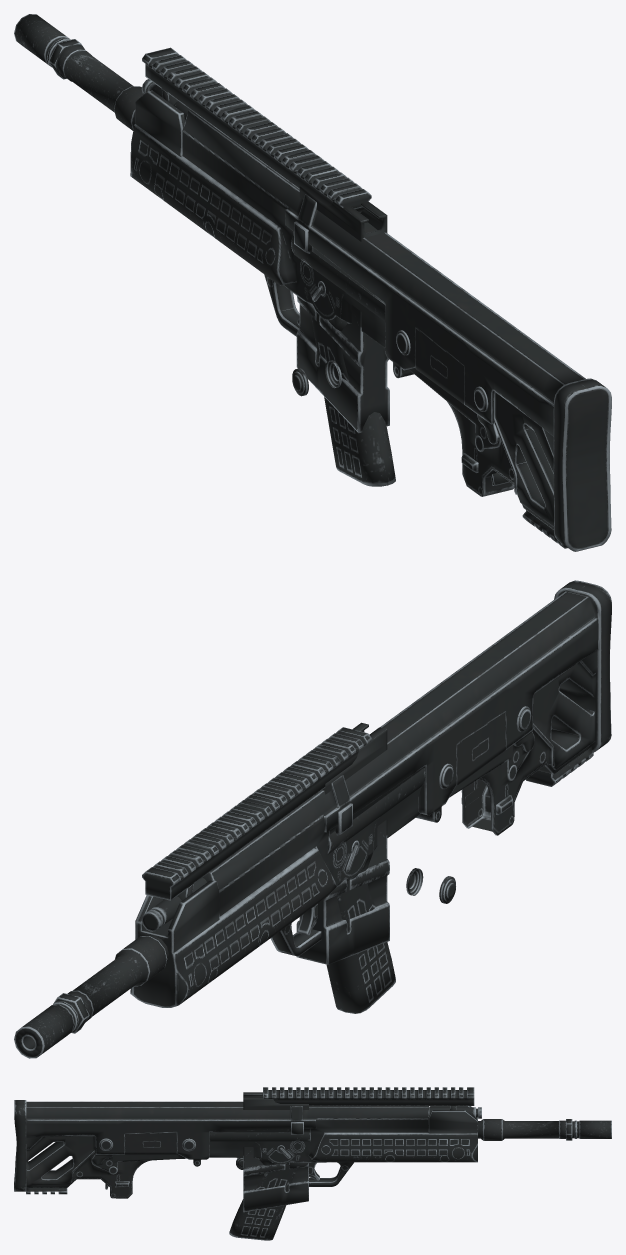
3 views of the same model, one above another, from view 1: azimuth 30°, elevation 25°; view 2: azimuth 150°, elevation 25°; view 3: azimuth 270°, elevation 25° (orthographic). The views are drawn at different scales.
Visible parts, largest first — view 1: Body, Magazine, Bolt; view 2: Body, Magazine, Bolt; view 3: Body, Magazine.
Part boxes in pixels (bbox=[...]): Body: bbox=[14, 14, 611, 551]; Magazine: bbox=[296, 186, 389, 433]; Bolt: bbox=[292, 360, 341, 396]; Body: bbox=[14, 580, 611, 1058]; Magazine: bbox=[296, 722, 389, 964]; Bolt: bbox=[406, 868, 455, 903]; Body: bbox=[14, 1087, 611, 1240]; Magazine: bbox=[243, 1092, 308, 1212].
Bounding box in the file's own units: 0.1207 × 0.2992 × 1.1.
Materials: 1 (1 with a texture image).
